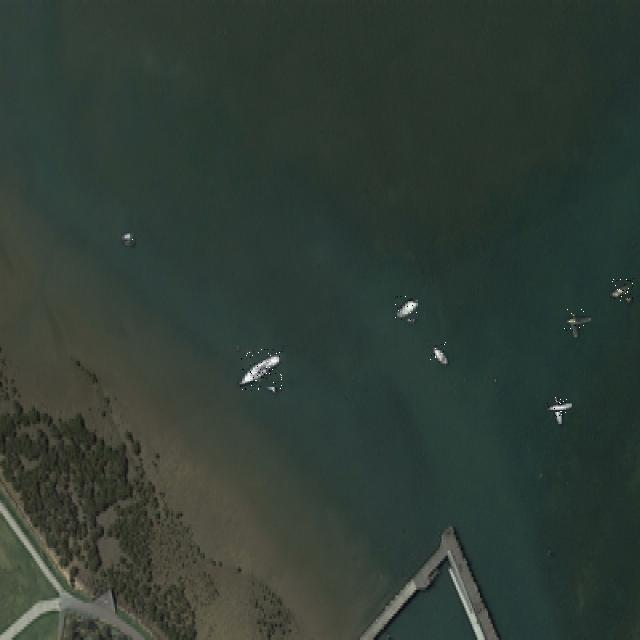boat: (240, 349, 282, 391), (393, 296, 417, 320), (612, 278, 634, 301), (564, 309, 585, 331), (547, 397, 568, 417), (430, 342, 448, 364), (122, 232, 134, 245)
